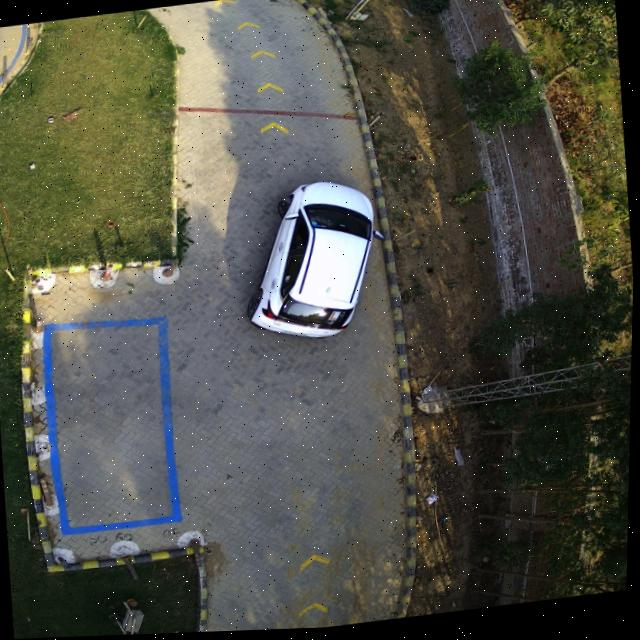car: (249, 184, 382, 340)
